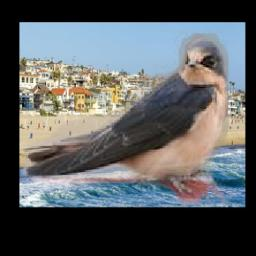Swallow: (22, 32, 230, 204)
